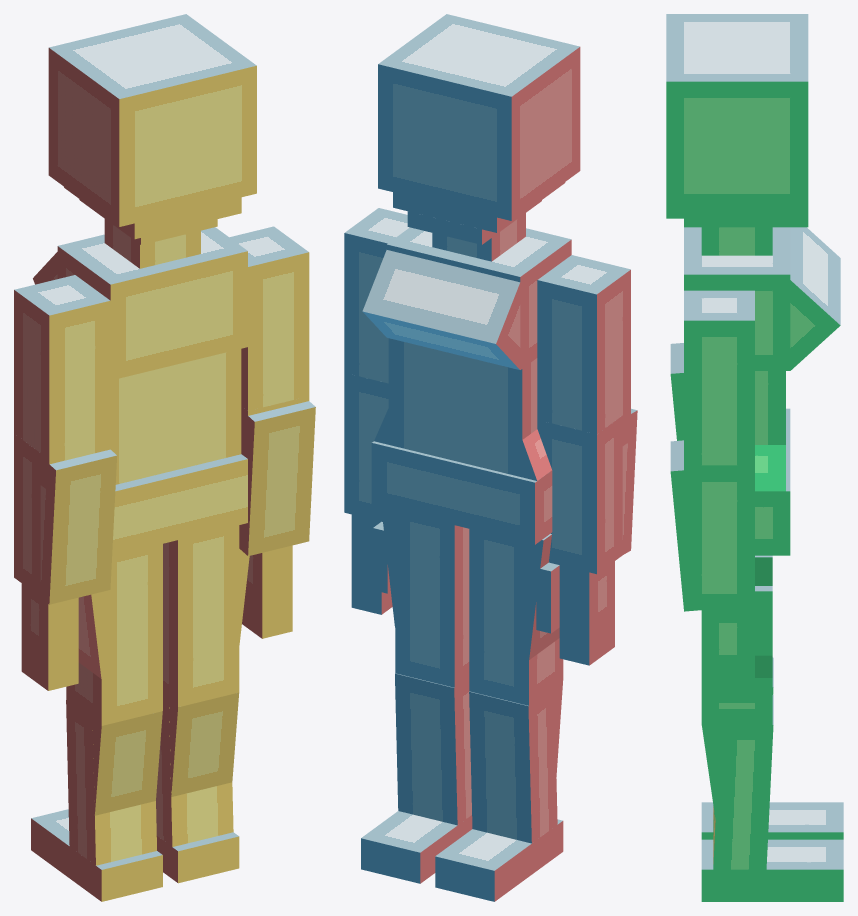
File: HumanGirl-2.gltf
3 renders of one model, left to right at view 1: azimuth 30°, elevation 25°; view 2: azimuth 150°, elevation 25°; view 3: azimuth 270°, elevation 25°, orthographic. The views are drawn at different scales.
Visible parts, largest first — view 1: cube (×26); view 2: cube (×28); view 3: cube (×22).
Part boxes in pixels (box(x1,y1,x2,y2)): cube (×26): box(14, 14, 315, 901); cube (×28): box(344, 14, 637, 901); cube (×22): box(666, 14, 843, 901).
Size of the model in its own units: 0.5313 by 1.59 by 0.3125.
Materials: 1 (1 with a texture image).
